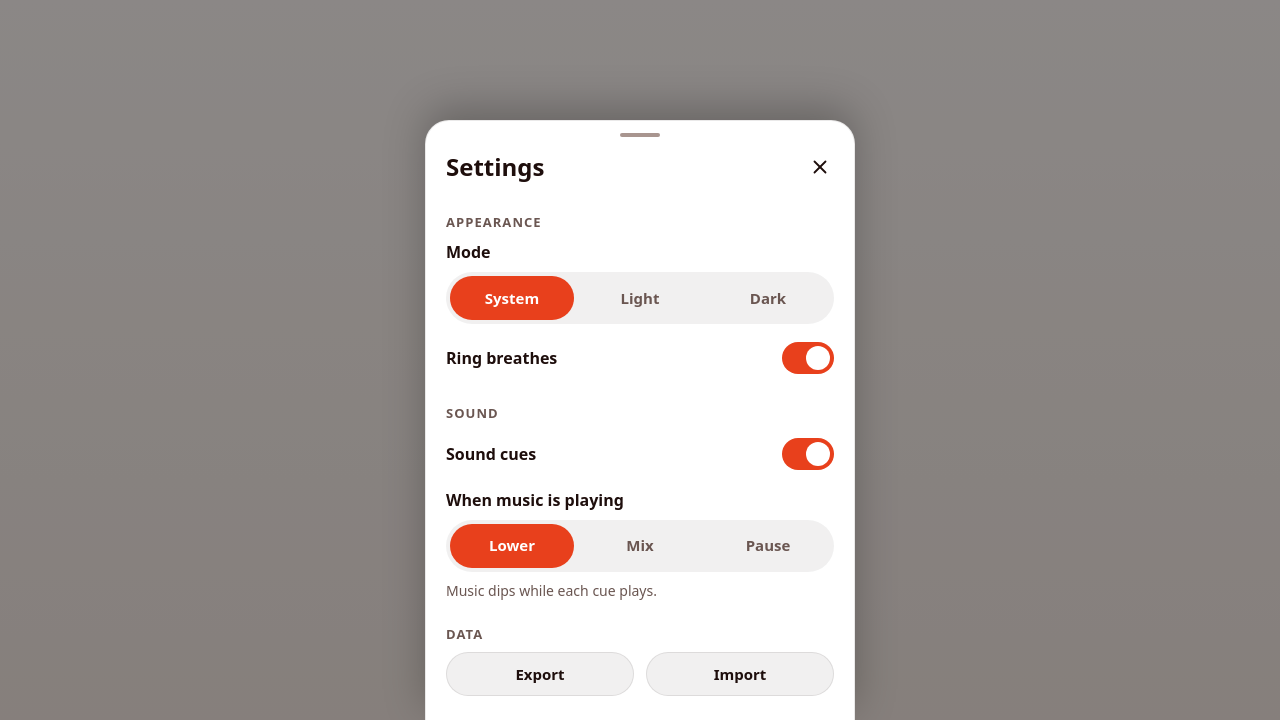
Test case: SettingsSheet › music choice saves cueAudio, explains it, and hides when cues are off
The width and height of the screenshot is (1280, 720).
Step 1. Click the radio button labelled "Pause" → point(768, 546), box x1=706 y1=524 x2=830 y2=568
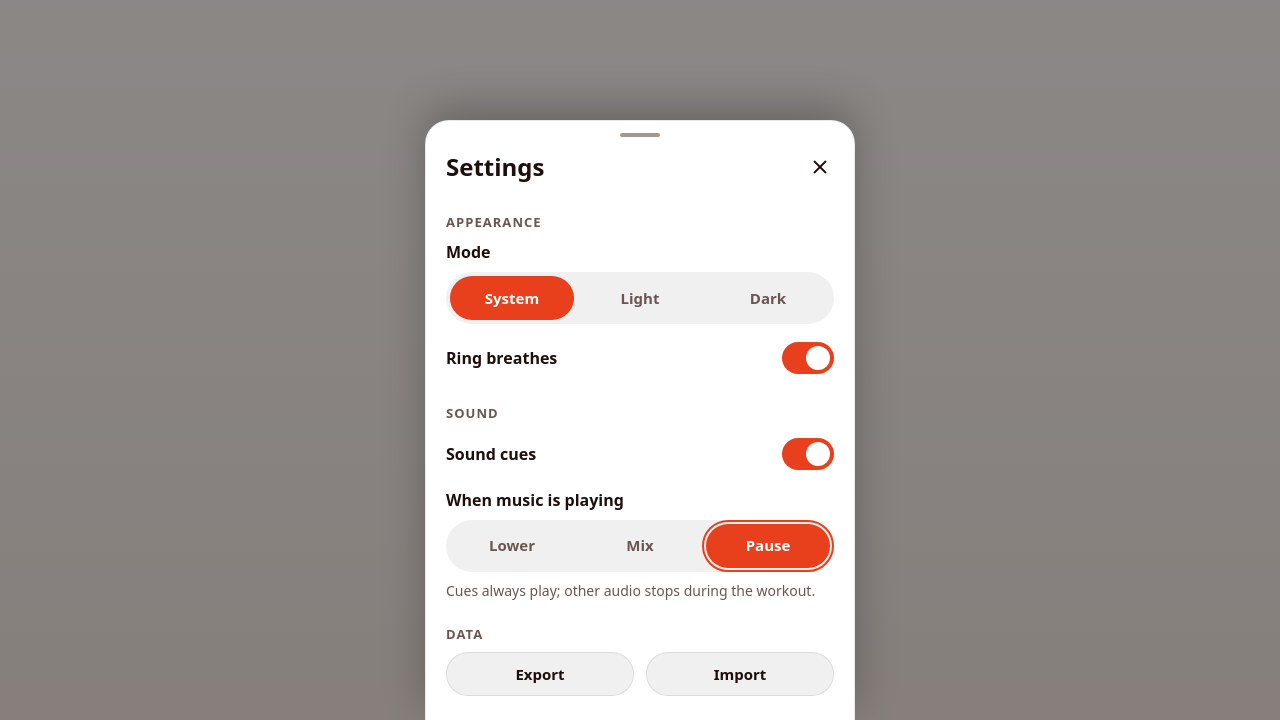
Now the text "Cues always play; other audio stops during the workout." is shown, box x1=446 y1=580 x2=834 y2=600
Step 2. Click the switch named "Sound cues" in the row of "Sound cues" → point(808, 454), box x1=782 y1=438 x2=834 y2=470
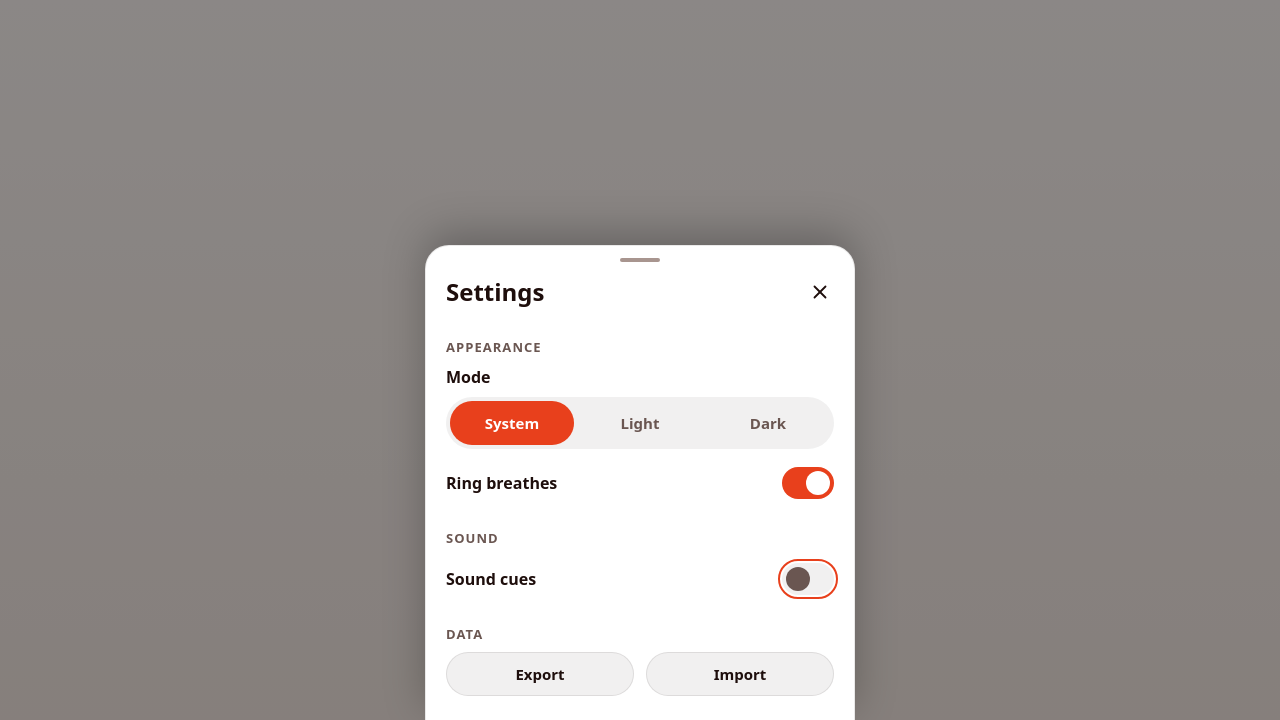
Now the radio button labelled "Pause" is gone
